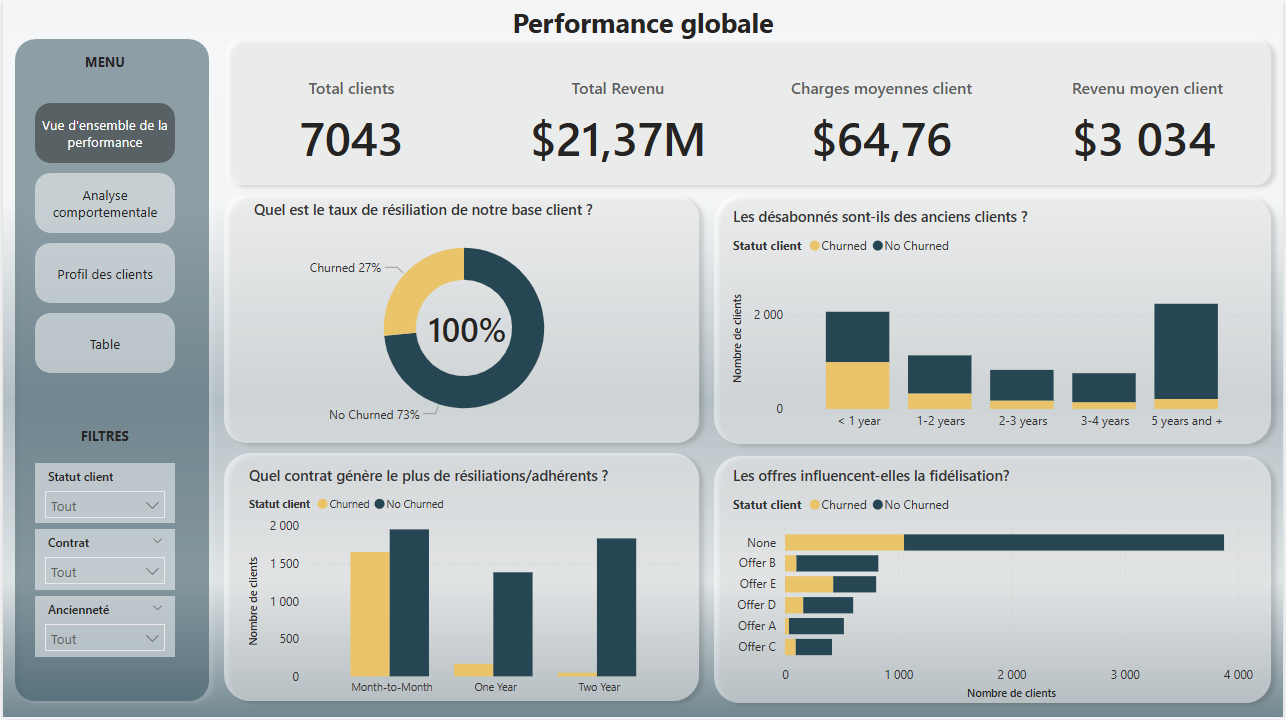

The page's visual inventory and layout, read from the dashboard file:
{"tool":"powerbi","page":{"name":"Vue d'ensemble de la performance","canvas":[1280,720],"ordinal":1},"visuals":[{"type":"textbox","box":[0,0,1280,49.4],"z":0},{"type":"cardVisual","fields":{"Data":["Sum(UsageCharges.Total Revenue)"]},"box":[505.4,61.2,219.9,115.3],"z":7000},{"type":"cardVisual","fields":{"Data":["Count(DimCustomer.Customer ID)"]},"box":[241.2,61.2,215,115.3],"z":8000},{"type":"cardVisual","fields":{"Data":["_Mesure Table.MoyenneChargesMensuelles"]},"box":[767,61.2,223.4,115.3],"z":9000},{"type":"card","fields":{"Values":["_Mesure Table.Customer%"]},"box":[383,267.1,163.3,127],"z":10000},{"type":"barChart","title":"Les offres influencent-elles la fidélisation?","fields":{"Category":["DimCustomer.Offer"],"Y":["CountNonNull(DimCustomer.Customer ID)"],"Series":["DimCustomer.Customer Status"]},"box":[725.4,466,530,240],"z":11000},{"type":"cardVisual","fields":{"Data":["_Mesure Table.RevenuMoyenParClient"]},"box":[1052,61.1,200,115.2],"z":12000},{"type":"donutChart","title":"Quel est le taux de résiliation de notre base client ?","fields":{"Category":["DimCustomer.Customer Status"],"Y":["CountNonNull(DimCustomer.Customer ID)"]},"box":[245.7,199.8,430.2,238.6],"z":13000},{"type":"clusteredColumnChart","title":"Quel contrat génère le plus de résiliations/adhérents ?","fields":{"Category":["DimCustomer.Contract"],"Y":["Count(DimCustomer.Customer ID)"],"Series":["DimCustomer.Customer Status"]},"box":[240.9,465.6,443.5,239.9],"z":14000},{"type":"columnChart","title":"Les désabonnés sont-ils des anciens clients ?","fields":{"Category":["DimCustomer.Tenure in Years"],"Y":["CountNonNull(DimCustomer.Customer ID)"],"Series":["DimCustomer.Customer Status"]},"box":[725.2,206.9,530.1,232.7],"z":15000},{"type":"pageNavigator","box":[32.3,103.8,140.1,273.1],"z":16000},{"type":"slicer","fields":{"Values":["DimService.Category"]},"box":[32.3,530.1,140.1,60.5],"z":17000},{"type":"slicer","fields":{"Values":["DimService.Service Name"]},"box":[32.3,596.7,140.1,61.5],"z":18000},{"type":"slicer","fields":{"Values":["DimCustomer.Customer Status"]},"box":[32.3,463.6,140.1,60.5],"z":19000},{"type":"textbox","box":[53.4,49.4,97.8,43.3],"z":20000},{"type":"textbox","box":[60.5,423.3,83.7,30.2],"z":21000}]}

Visuals, with their boxes in screenshot pixels (x1, y1, x2, y2), scaled from the page's 1280x720 canvas onto the 1286x720 screenshot:
textbox: crop(0, 0, 1285, 49)
cardVisual - Sum(UsageCharges.Total Revenue): crop(508, 61, 729, 176)
cardVisual - Count(DimCustomer.Customer ID): crop(242, 61, 458, 176)
cardVisual - _Mesure Table.MoyenneChargesMensuelles: crop(771, 61, 995, 176)
card - _Mesure Table.Customer%: crop(385, 267, 549, 394)
"Les offres influencent-elles la fidélisation?" barChart: crop(729, 466, 1261, 706)
cardVisual - _Mesure Table.RevenuMoyenParClient: crop(1057, 61, 1258, 176)
"Quel est le taux de résiliation de notre base client ?" donutChart: crop(247, 200, 679, 438)
"Quel contrat génère le plus de résiliations/adhérents ?" clusteredColumnChart: crop(242, 466, 688, 706)
"Les désabonnés sont-ils des anciens clients ?" columnChart: crop(729, 207, 1261, 440)
pageNavigator: crop(32, 104, 173, 377)
slicer - DimService.Category: crop(32, 530, 173, 591)
slicer - DimService.Service Name: crop(32, 597, 173, 658)
slicer - DimCustomer.Customer Status: crop(32, 464, 173, 524)
textbox: crop(54, 49, 152, 93)
textbox: crop(61, 423, 145, 454)
